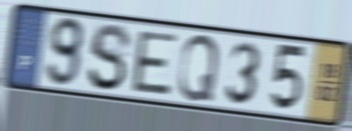3: (224, 40, 262, 107)
5: (268, 42, 311, 114)
9: (43, 14, 85, 90)
E: (131, 29, 180, 98)
Q: (176, 32, 222, 103)
S: (85, 21, 134, 94)
